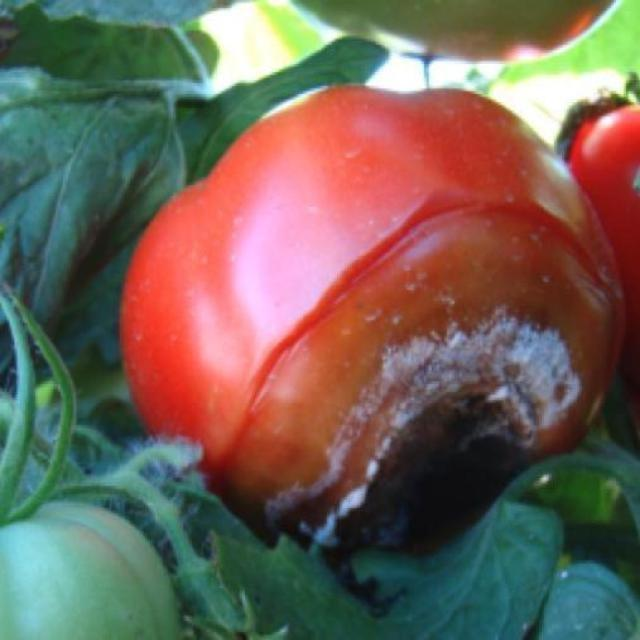Blossom End Rot Fruit: (170, 208, 373, 371)
